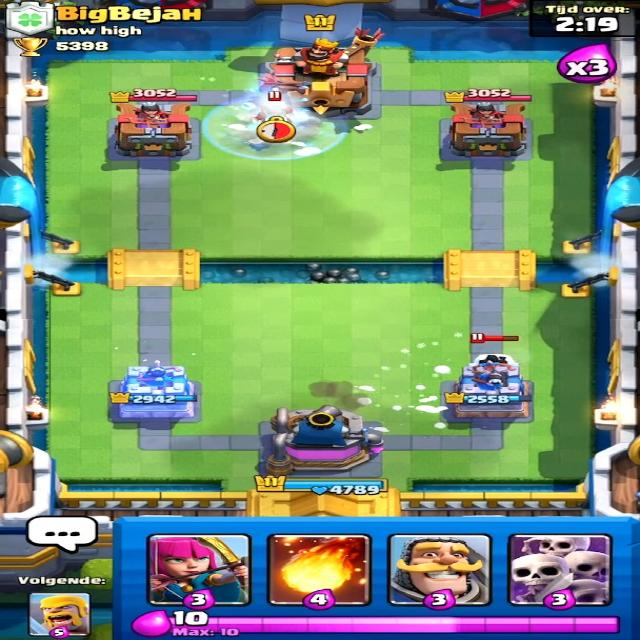Fireball_Card: (268, 535, 381, 607)
